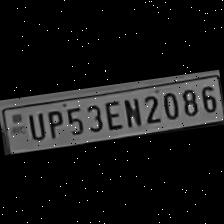0: (158, 88, 180, 120)
2: (138, 90, 162, 125)
3: (82, 98, 104, 132)
5: (61, 102, 84, 137)
6: (197, 82, 219, 114)
8: (177, 84, 199, 118)
E: (100, 96, 122, 132)
N: (120, 94, 142, 128)
P: (43, 105, 65, 139)
U: (24, 109, 46, 141)
